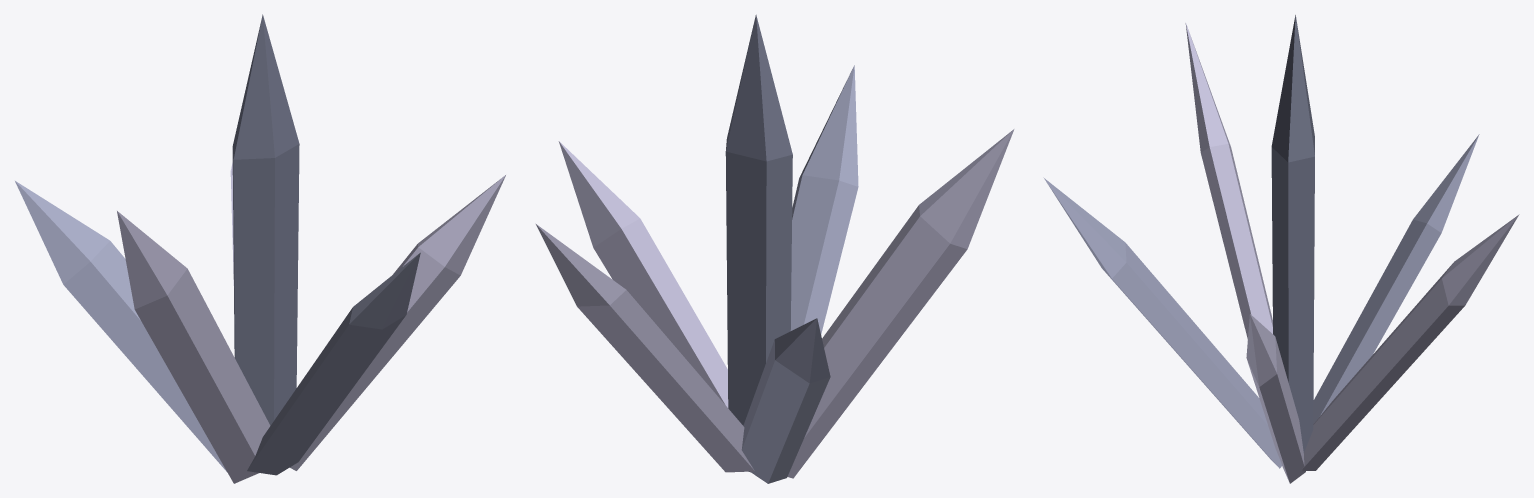
File: tree-crystalFan.glb
3 views of the same model, side by side, from view 1: azimuth 30°, elevation 25°; view 2: azimuth 150°, elevation 25°; view 3: azimuth 270°, elevation 25° (orthographic).
Visible parts, largest first — view 1: root-crystal, crystal-3, crystal-4, crystal-2, crystal-1; view 2: root-crystal, crystal-3, crystal-5, crystal-1, crystal-2, crystal-4; view 3: root-crystal, crystal-2, crystal-5, crystal-4, crystal-3, crystal-1.
Part boxes in pixels (<box>): root-crystal: <box>232,14,299,425</box>; crystal-3: <box>117,211,270,483</box>; crystal-4: <box>15,181,226,471</box>; crystal-2: <box>247,252,420,475</box>; crystal-1: <box>290,175,505,470</box>; root-crystal: <box>725,14,792,472</box>; crystal-3: <box>787,129,1014,478</box>; crystal-5: <box>535,223,754,472</box>; crystal-1: <box>558,141,728,407</box>; crystal-2: <box>790,65,858,334</box>; crystal-4: <box>741,318,830,483</box>; root-crystal: <box>1271,15,1314,452</box>; crystal-2: <box>1043,177,1282,468</box>; crystal-5: <box>1302,214,1519,471</box>; crystal-4: <box>1313,134,1479,423</box>; crystal-3: <box>1185,22,1272,339</box>; crystal-1: <box>1246,314,1305,483</box>.
Bounding box in the file's own units: 3.73 × 3.91 × 3.7.
